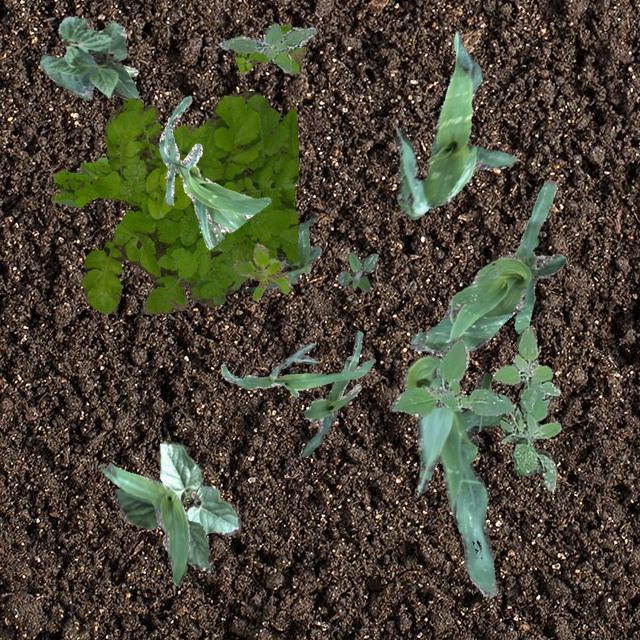crop: (408, 178, 564, 354), (402, 352, 506, 596), (394, 32, 516, 218), (157, 94, 270, 248), (102, 462, 188, 584), (114, 477, 212, 571), (39, 15, 138, 100), (220, 342, 374, 396), (300, 329, 362, 456), (158, 439, 240, 534), (244, 216, 320, 294), (122, 64, 136, 76)
weed: (79, 90, 298, 314), (390, 326, 560, 492), (218, 22, 314, 72), (233, 22, 306, 74), (232, 242, 290, 300), (50, 158, 112, 206), (337, 252, 378, 290)
